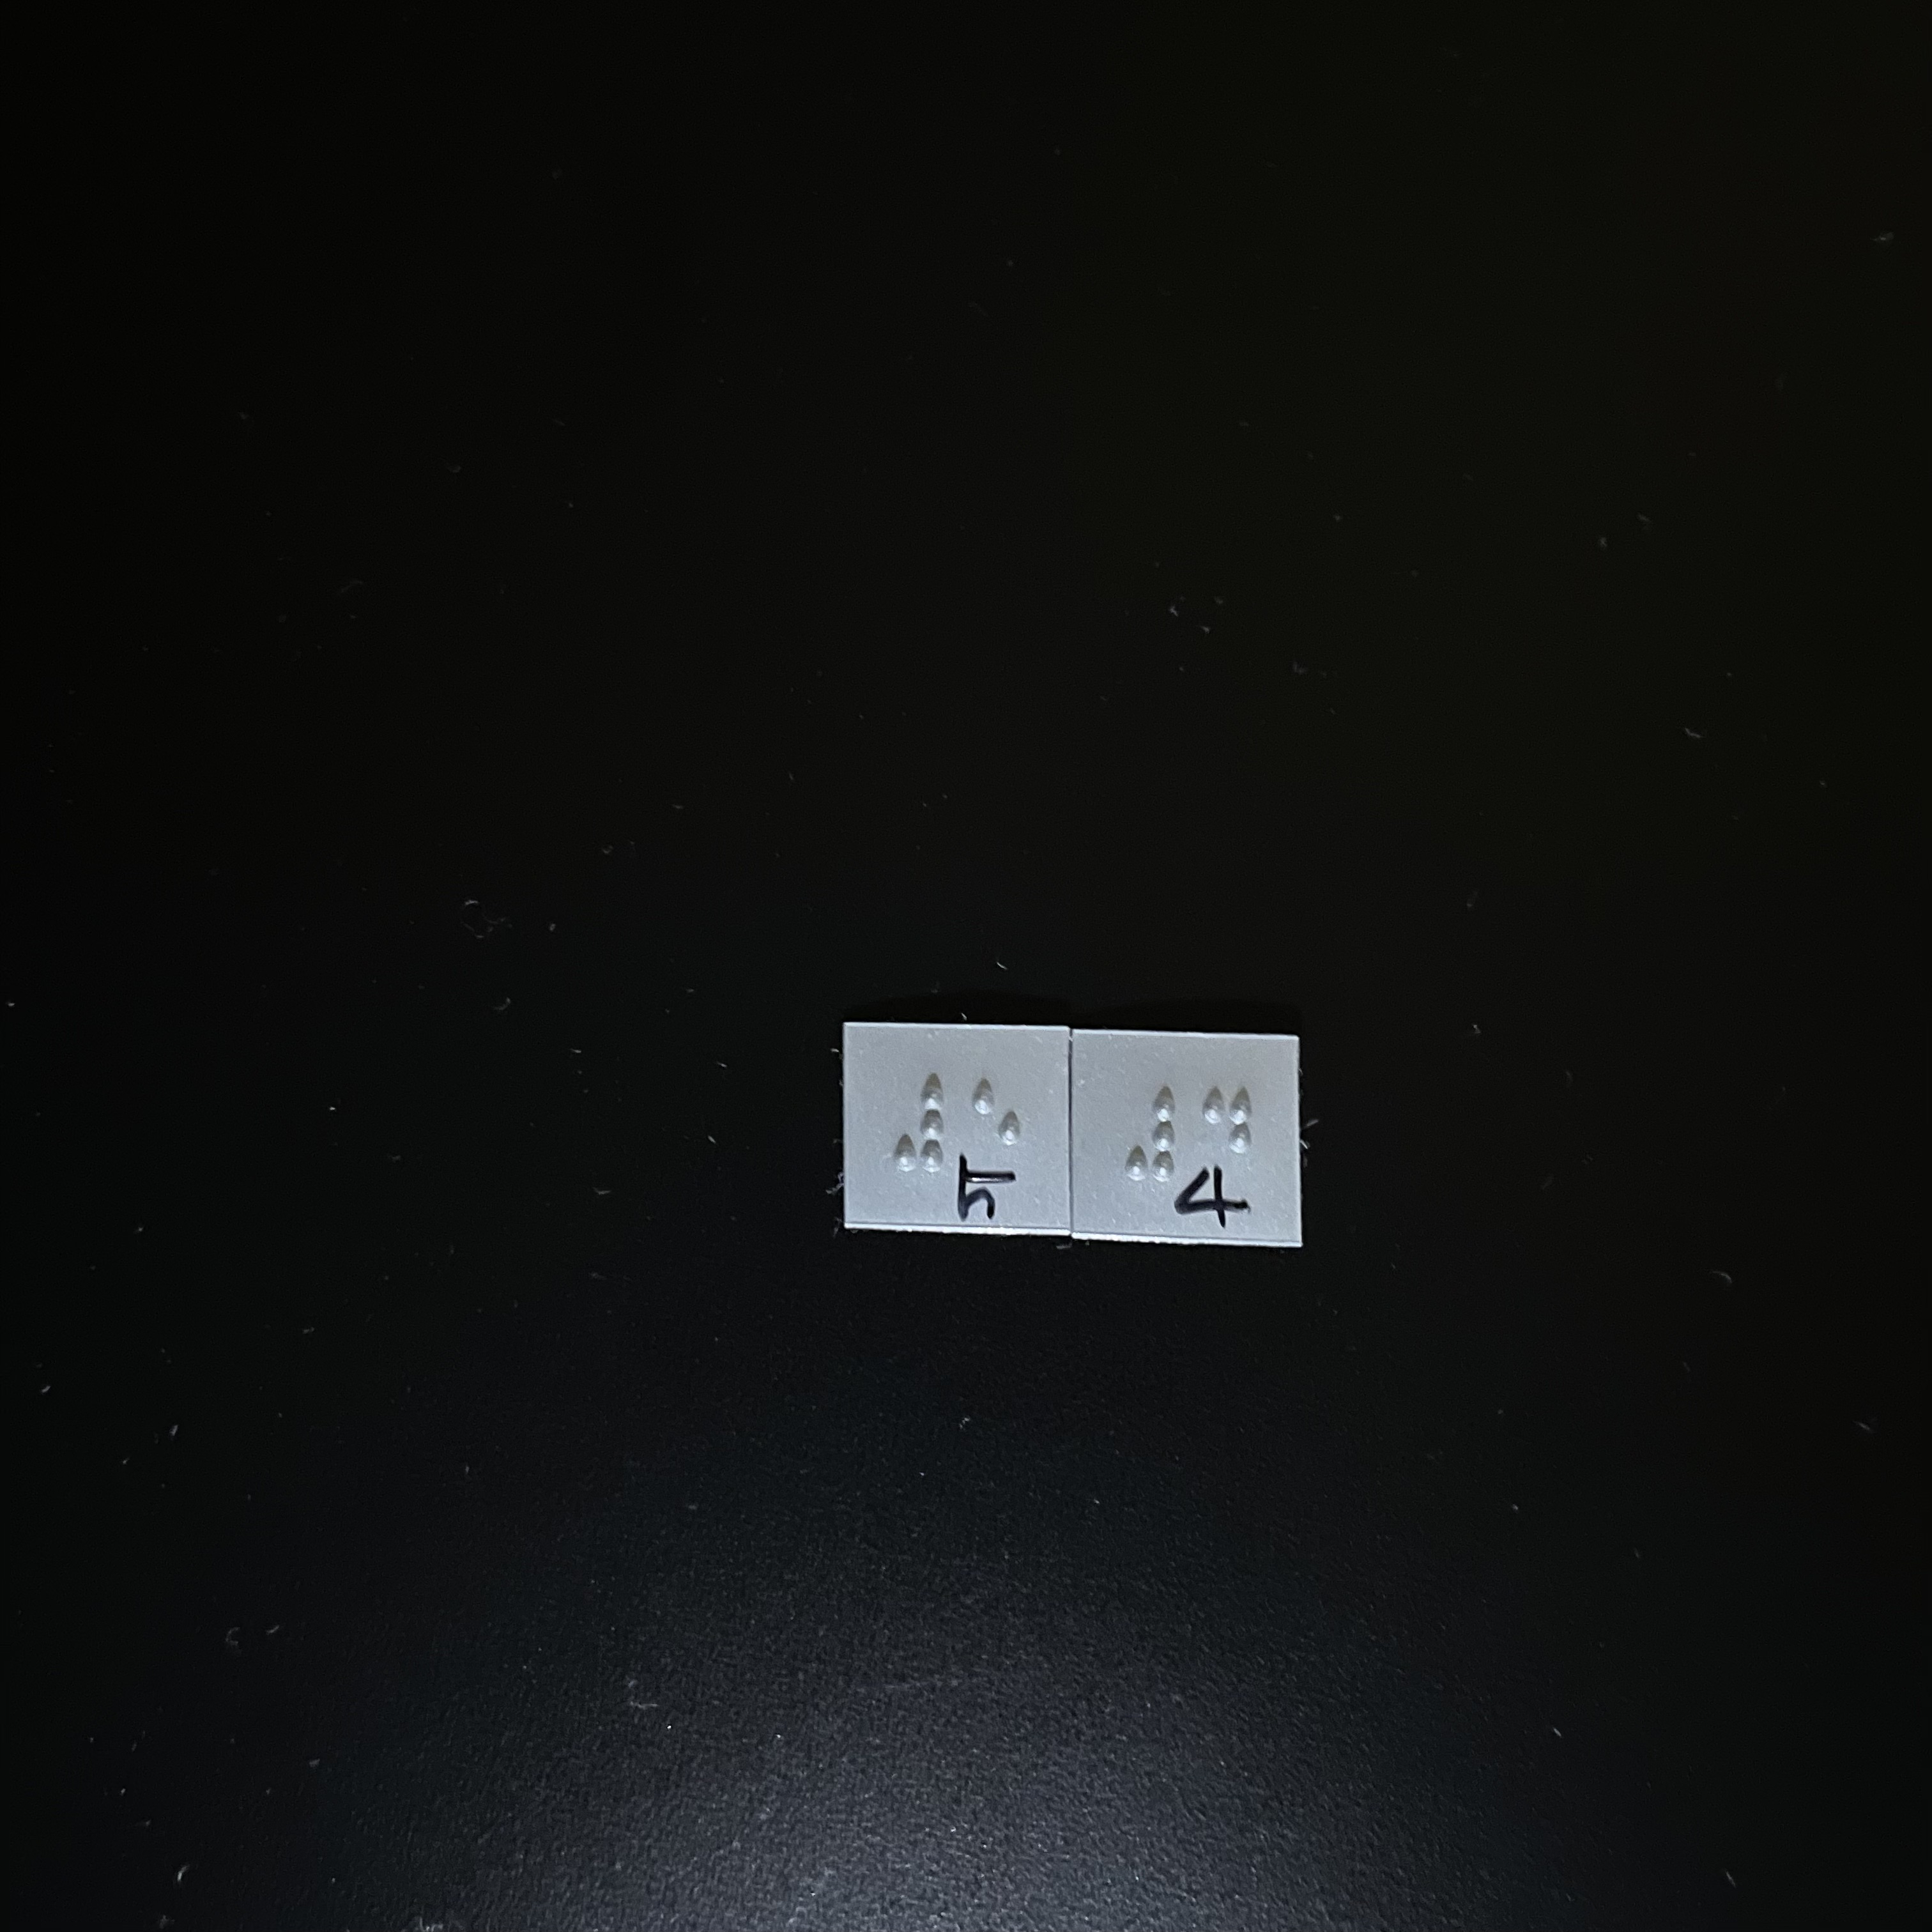#: (1113, 1077, 1186, 1183), (893, 1068, 959, 1176)
d: (1188, 1077, 1256, 1192)
e: (963, 1075, 1029, 1181)
